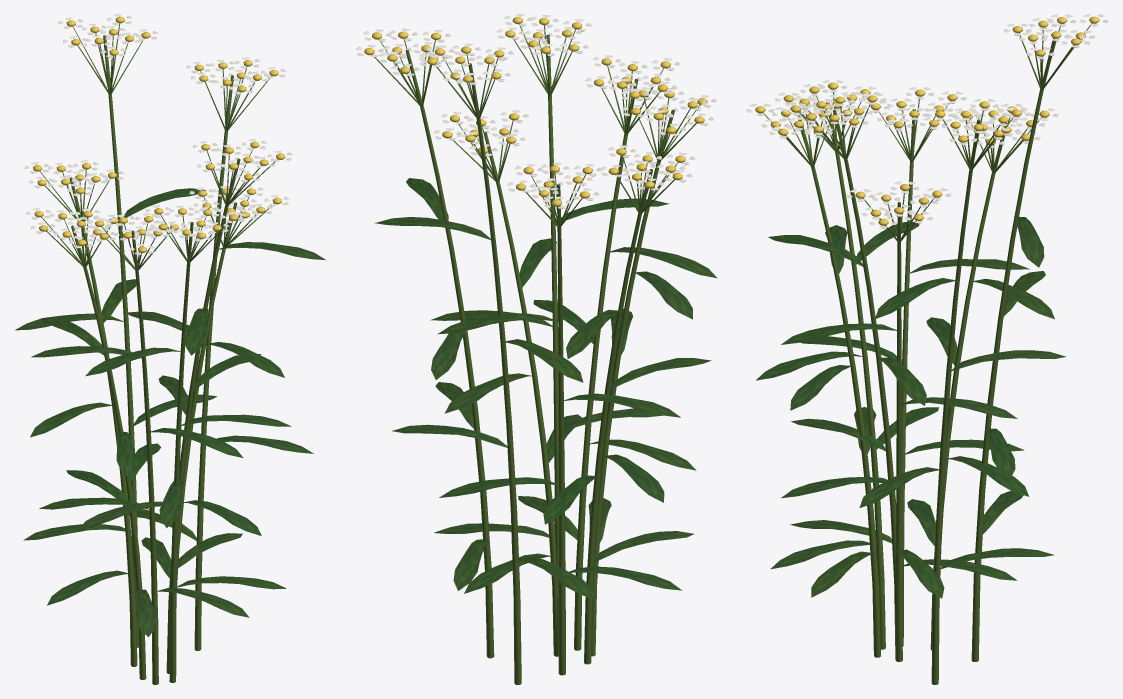
The model's file is yarrow.glb.
The picture shows the model from 3 angles, left to right: view 1: azimuth 30°, elevation 25°; view 2: azimuth 150°, elevation 25°; view 3: azimuth 270°, elevation 25°; orthographic projection. The views are drawn at different scales.
Visible parts, largest first — view 1: Foliage, Stems, Flowers; view 2: Stems, Foliage, Flowers; view 3: Stems, Foliage, Flowers.
Part boxes in pixels (x1=…): Foliage: x1=15, y1=188, x2=326, y2=636; Stems: x1=39, y1=23, x2=277, y2=684; Flowers: x1=24, y1=14, x2=292, y2=255; Stems: x1=372, y1=24, x2=700, y2=684; Foliage: x1=374, y1=178, x2=717, y2=600; Flowers: x1=355, y1=14, x2=716, y2=208; Stems: x1=763, y1=23, x2=1092, y2=684; Foliage: x1=755, y1=216, x2=1066, y2=598; Flowers: x1=746, y1=14, x2=1108, y2=228.
Size of the model in its own units: 0.304 by 0.62 by 0.3195.
Materials: 3 (1 with a texture image).
